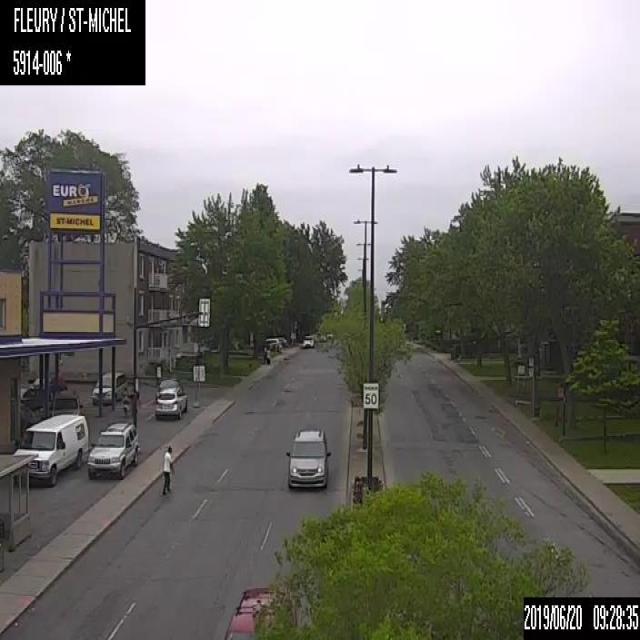pedestrian: (161, 446, 171, 494), (266, 346, 271, 365), (261, 344, 266, 363)
vehicle: (15, 409, 89, 488), (224, 585, 294, 639), (84, 418, 139, 481), (286, 428, 329, 489), (90, 371, 126, 406), (153, 386, 186, 418), (51, 388, 82, 417), (301, 334, 314, 346)
